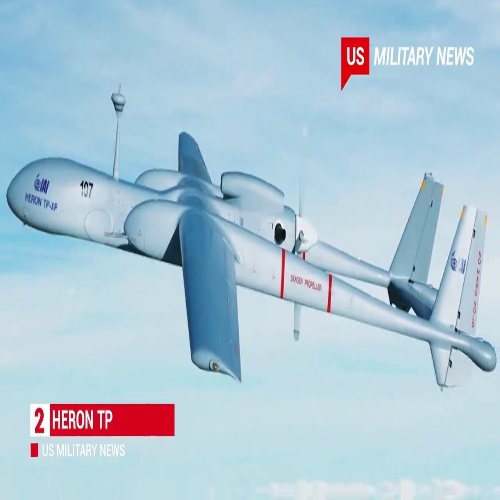uav: (5, 88, 496, 385)
